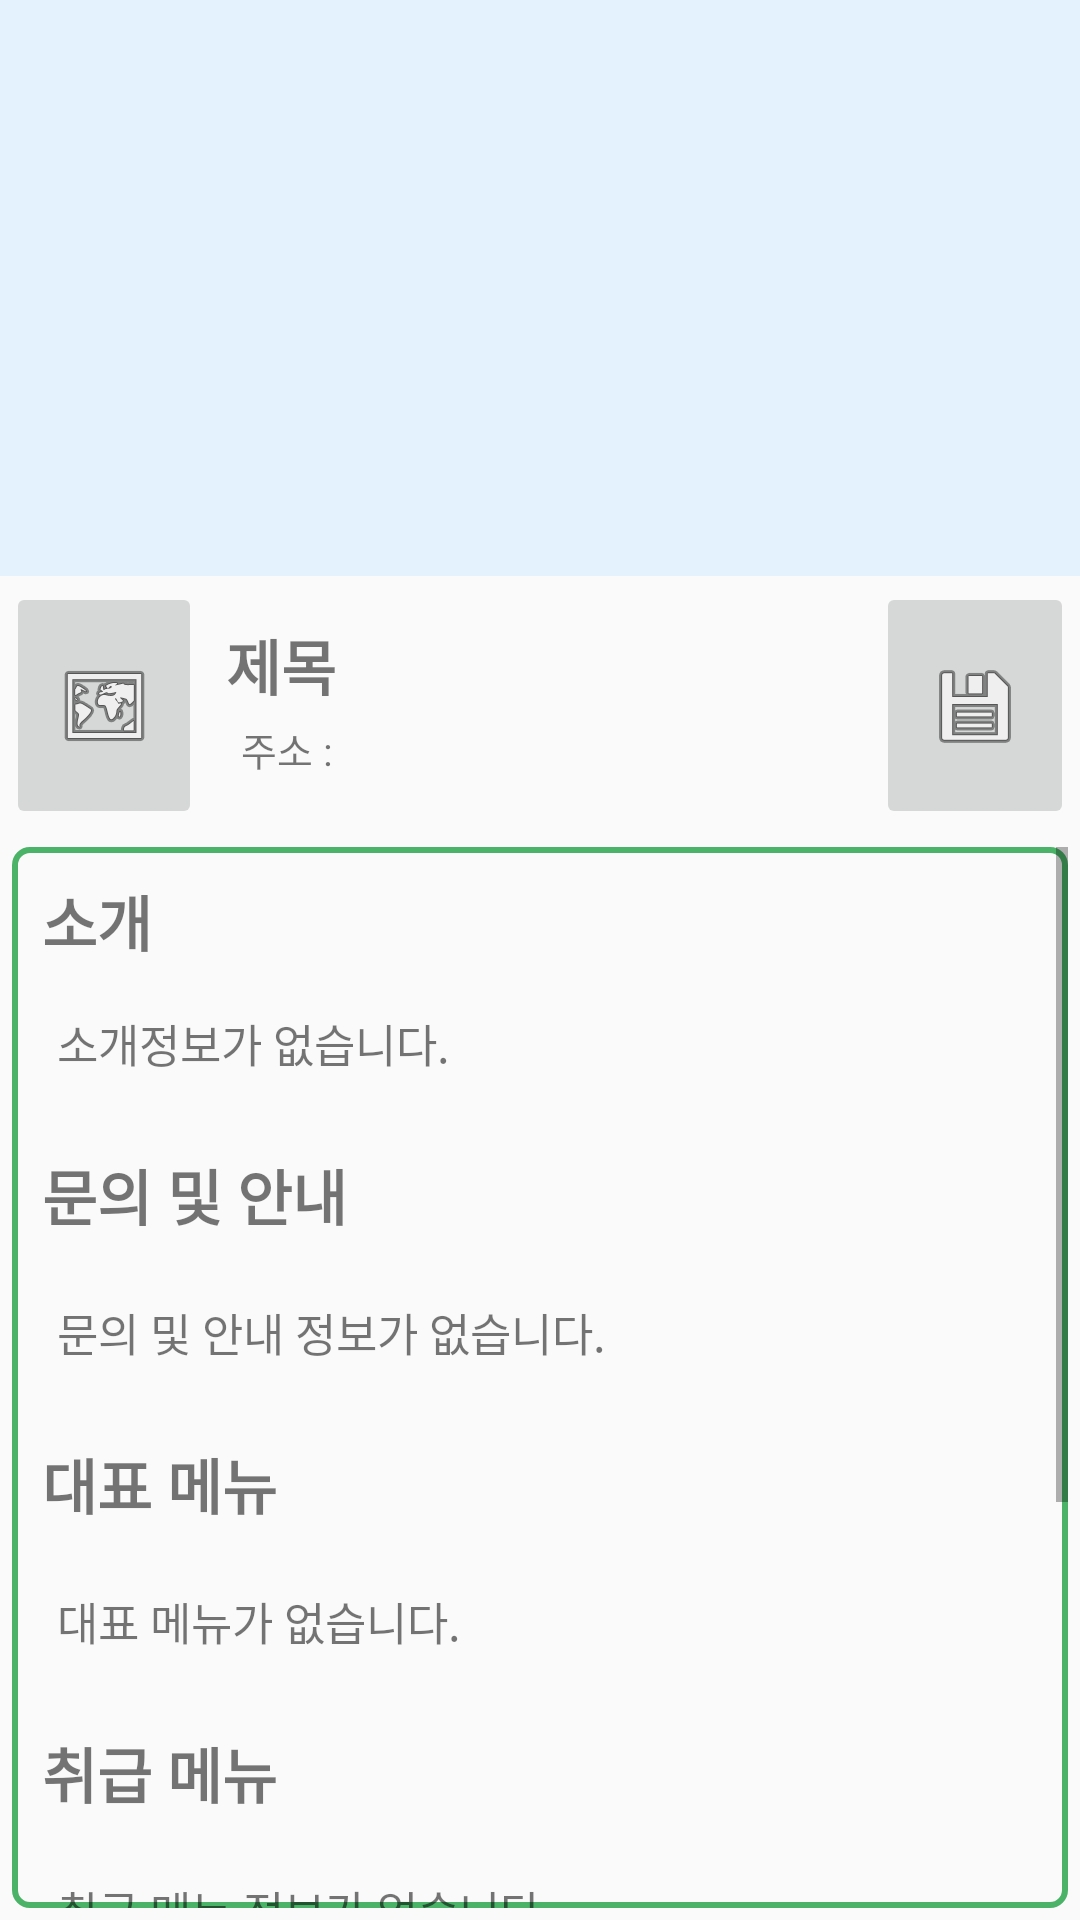

Point at icon controls on the screen. Image size 1080px×1920px, points as (x=x, y=y).
mapmode: (x=104, y=705)
save: (x=975, y=705)
